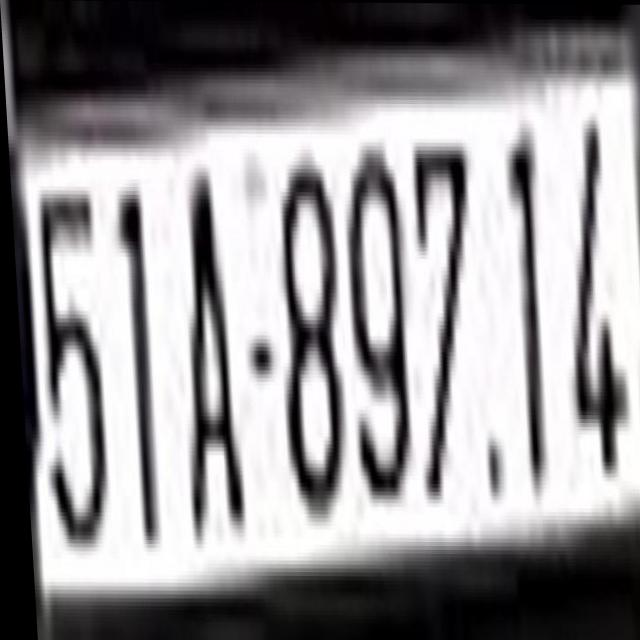1: (498, 119, 547, 496), (112, 179, 158, 548)
4: (552, 96, 633, 485)
5: (31, 167, 107, 547)
7: (398, 134, 483, 507)
8: (264, 145, 346, 529)
9: (333, 145, 409, 522)
A: (167, 152, 242, 537)
